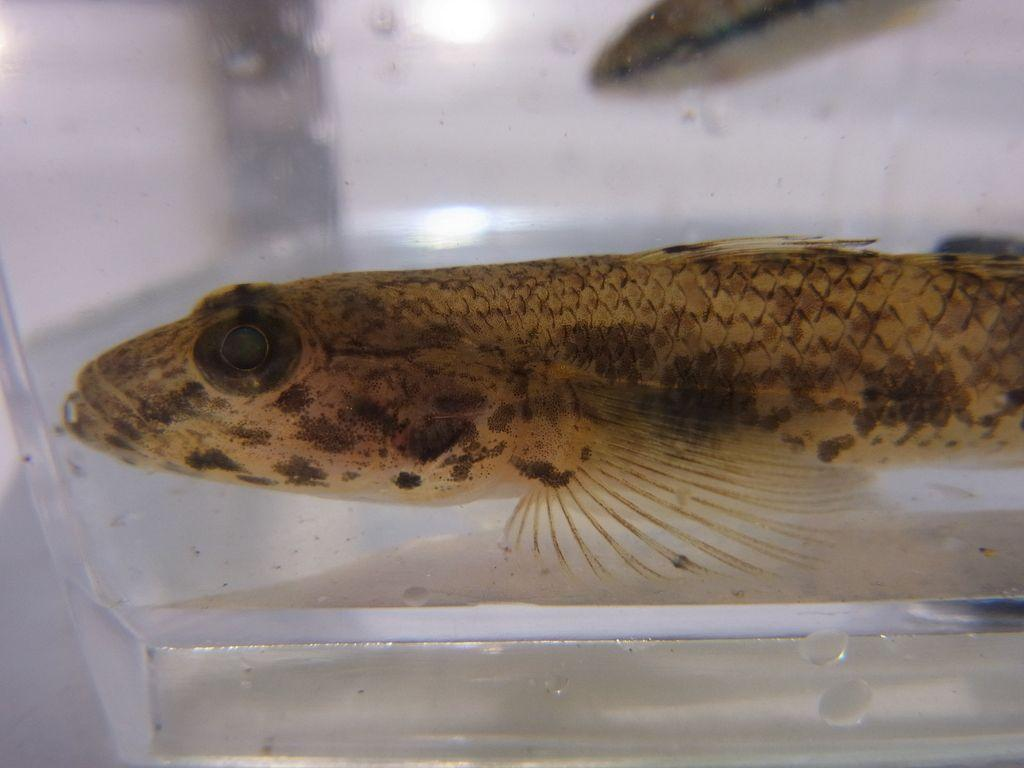Goby: (61, 232, 1024, 636)
